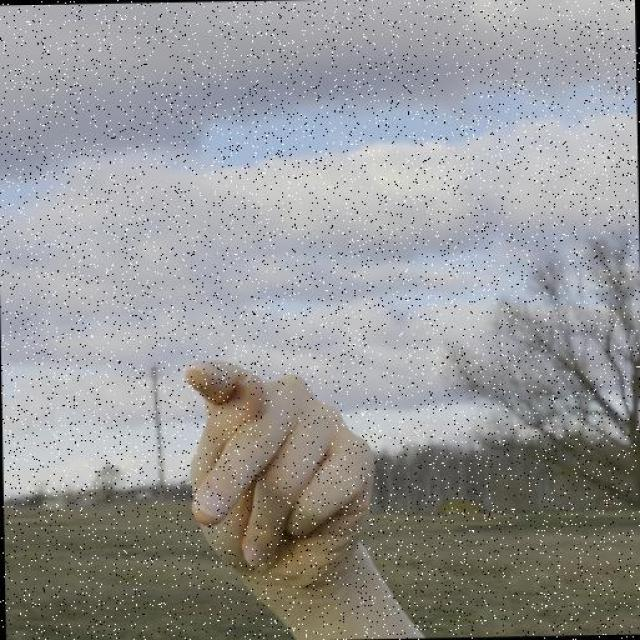P: (182, 353, 383, 596)
